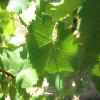grape leaf: (23, 12, 80, 78), (7, 50, 39, 88), (79, 1, 99, 55), (44, 0, 84, 23), (55, 84, 78, 99)
